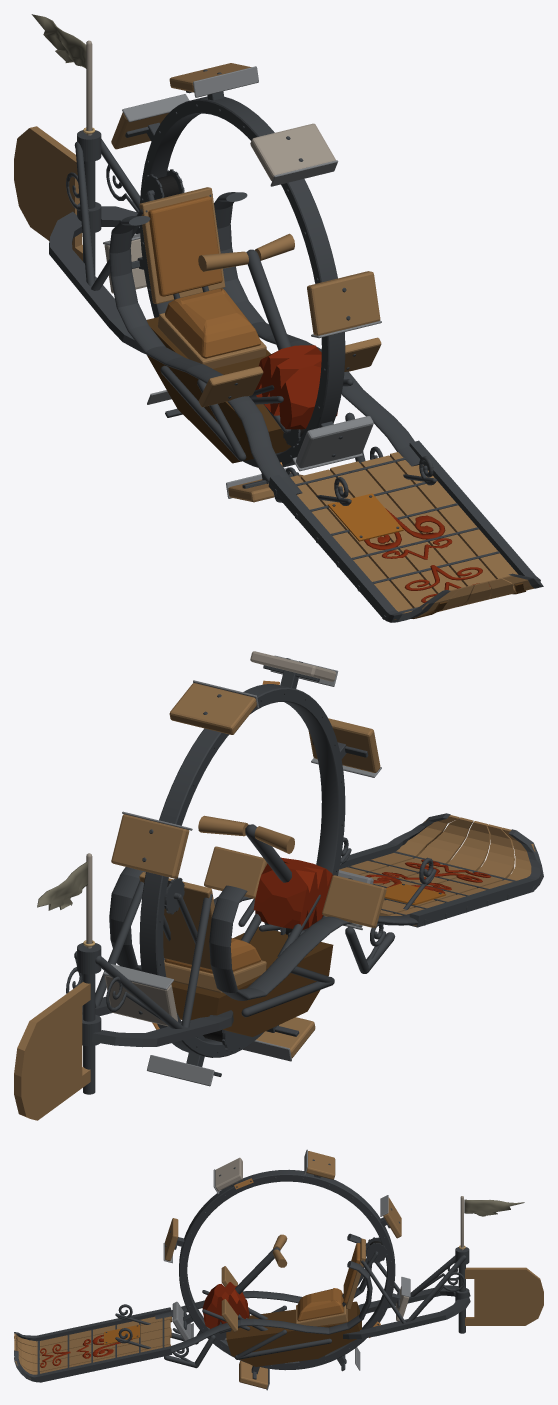
File: desert_monowheel_patched.fbx
3 views of the same model, one above another, from view 1: azimuth 30°, elevation 25°; view 2: azimuth 150°, elevation 25°; view 3: azimuth 270°, elevation 25° (orthographic). The views are drawn at different scales.
Parts seen in each view (by area): view 1: Mesh_SkiDeck_Patched, Mesh_Ring_Patched, Mesh_SideHoopR_Patched, Mesh_SkiRails_Patched, Mesh_BackCushion_Patched, Mesh_TailPanel_Patched, Mesh_SideHoopL_Patched, Mesh_SeatCushion_Patched, Mesh_FrontCowl_Patched, Mesh_BellyPan_Patched, Mesh_Paddle02_Patched, Mesh_RearRailR_Patched (+21 smaller); view 2: Mesh_Ring_Patched, Mesh_SkiDeck_Patched, Mesh_TailPanel_Patched, Mesh_BellyPan_Patched, Mesh_SideHoopR_Patched, Mesh_FrontCowl_Patched, Mesh_SkiRails_Patched, Mesh_Paddle07_Patched, Mesh_SeatPosts_Patched, Mesh_CheekL_Patched, Mesh_Paddle00_Patched, Mesh_Backrest_Patched (+25 smaller); view 3: Mesh_Ring_Patched, Mesh_TailPanel_Patched, Mesh_SkiDeck_Patched, Mesh_BellyPan_Patched, Mesh_SkiRails_Patched, Mesh_SideHoopL_Patched, Mesh_CheekR_Patched, Mesh_SeatPosts_Patched, Mesh_RearRailL_Patched, Mesh_FrontCowl_Patched, Mesh_SeatCushion_Patched, Mesh_SideHoopR_Patched (+20 smaller).
Boxes of the visible parts, x1,y1,x2,y2 form: Mesh_SkiDeck_Patched: (290,452,533,619); Mesh_Ring_Patched: (140,96,345,467); Mesh_SideHoopR_Patched: (109,215,302,497); Mesh_SkiRails_Patched: (268,440,543,622); Mesh_BackCushion_Patched: (148,196,222,296); Mesh_TailPanel_Patched: (14,126,82,260); Mesh_SideHoopL_Patched: (214,192,420,466); Mesh_SeatCushion_Patched: (165,288,261,358); Mesh_FrontCowl_Patched: (255,345,337,429); Mesh_BellyPan_Patched: (146,317,291,463); Mesh_Paddle02_Patched: (307,271,380,335); Mesh_RearRailR_Patched: (49,211,145,353); Mesh_Ring_Patched: (139,684,345,1057); Mesh_SkiDeck_Patched: (339,815,535,926); Mesh_TailPanel_Patched: (14,982,90,1120); Mesh_BellyPan_Patched: (171,927,333,1037); Mesh_SideHoopR_Patched: (209,885,430,1000); Mesh_FrontCowl_Patched: (253,857,332,929); Mesh_SkiRails_Patched: (339,813,543,927); Mesh_Paddle07_Patched: (111,814,189,878); Mesh_SeatPosts_Patched: (95,880,334,1027); Mesh_CheekL_Patched: (95,857,436,1028); Mesh_Paddle00_Patched: (169,683,256,734); Mesh_Backrest_Patched: (139,872,214,969); Mesh_Ring_Patched: (179,1169,395,1370); Mesh_TailPanel_Patched: (465,1267,543,1325); Mesh_SkiDeck_Patched: (14,1316,171,1378); Mesh_BellyPan_Patched: (226,1301,361,1366); Mesh_SkiRails_Patched: (14,1307,172,1382); Mesh_SideHoopL_Patched: (157,1261,372,1355); Mesh_CheekR_Patched: (115,1255,466,1368); Mesh_SeatPosts_Patched: (234,1246,405,1359); Mesh_RearRailL_Patched: (343,1297,470,1339); Mesh_FrontCowl_Patched: (202,1282,249,1328); Mesh_SeatCushion_Patched: (297,1288,343,1321); Mesh_SideHoopR_Patched: (155,1233,371,1319).
Size of the model in its own units: 176 by 388 by 833.
